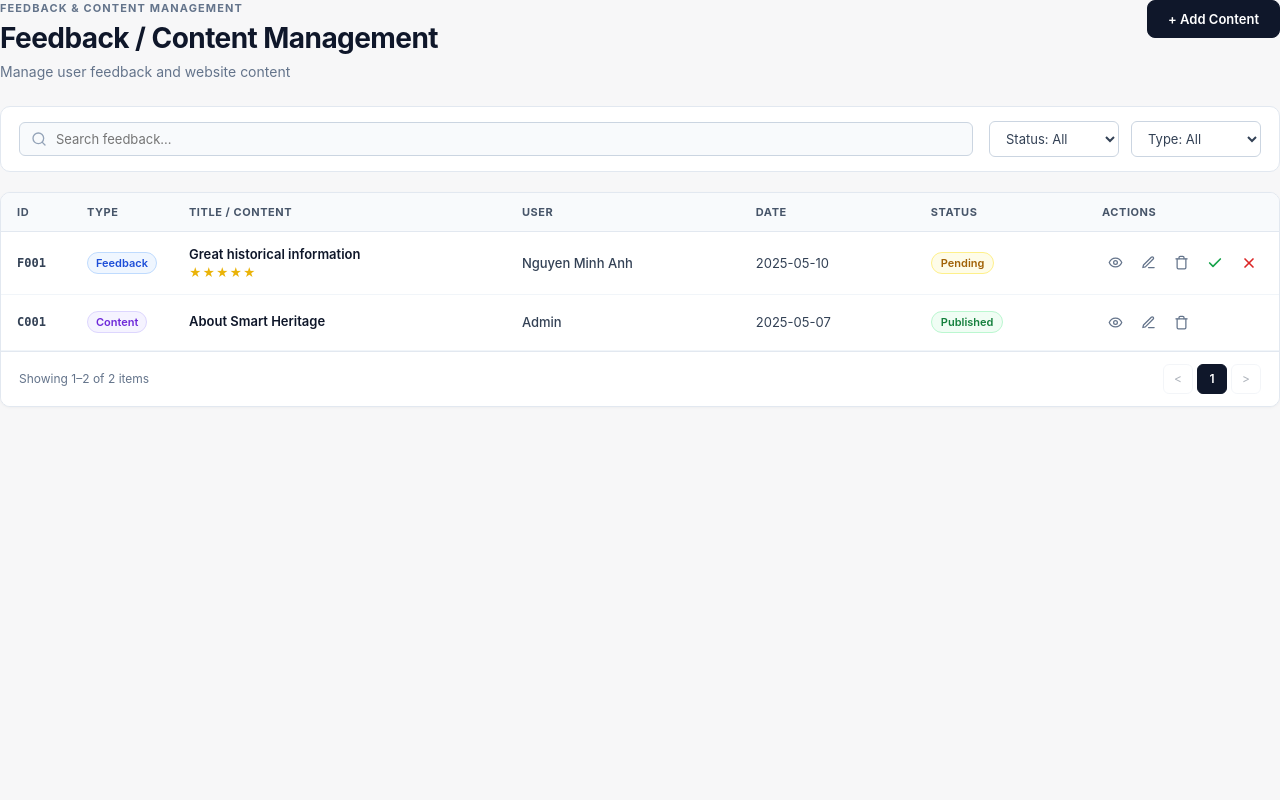
it: FeedbackPage — Admin Feedback & Content Management › opens details modal when clicking view button
The width and height of the screenshot is (1280, 800).
Click the button named "View F001".
click(1116, 262)  # box [1102,249,1129,276]
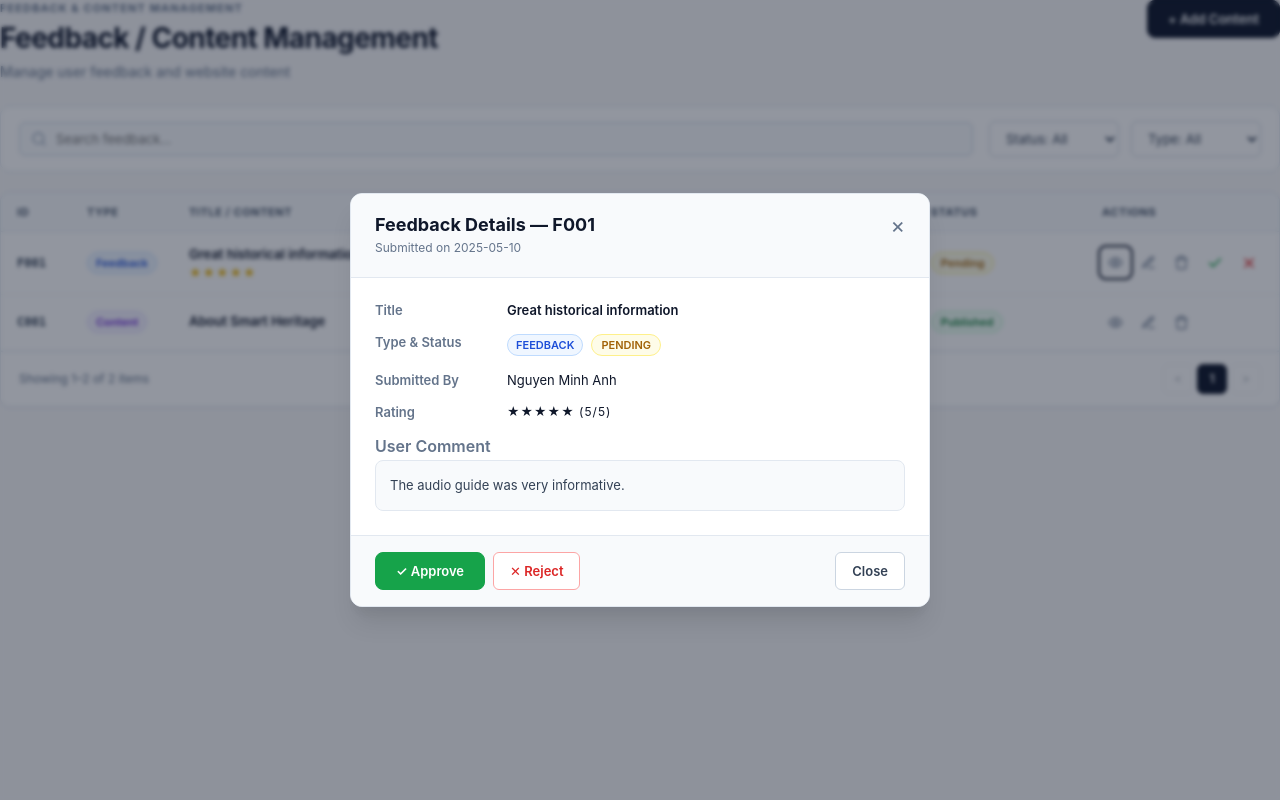
Now the heading "Feedback Details — F001" is shown, box [375,214,595,235]
Now the text "The audio guide was very informative." is shown, box [375,460,905,511]
